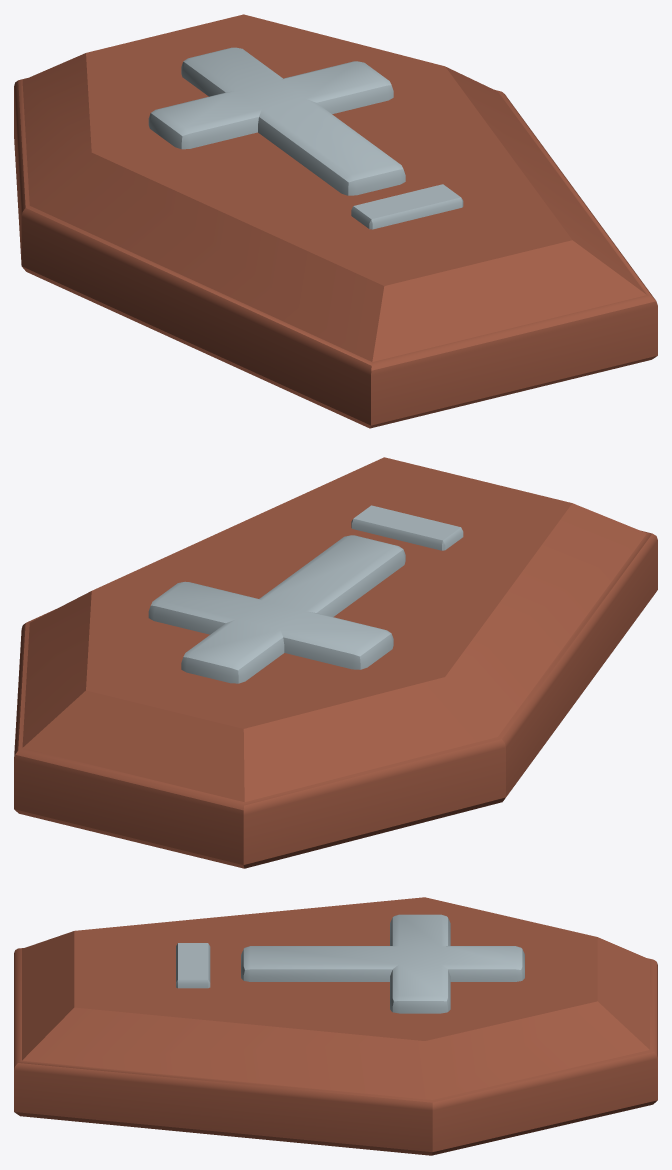
Rendered from coffinA_top.glb.
3 renders of one model, top to bottom at view 1: azimuth 30°, elevation 25°; view 2: azimuth 150°, elevation 25°; view 3: azimuth 270°, elevation 25°, orthographic. The views are drawn at different scales.
Visible parts, largest first — view 1: coffinA_top; view 2: coffinA_top; view 3: coffinA_top.
Boxes of the visible parts, x1=… form: coffinA_top: x1=14, y1=14, x2=657, y2=428; coffinA_top: x1=14, y1=457, x2=657, y2=868; coffinA_top: x1=14, y1=897, x2=657, y2=1155.
Size of the model in its own units: 1.45 by 0.3547 by 2.
